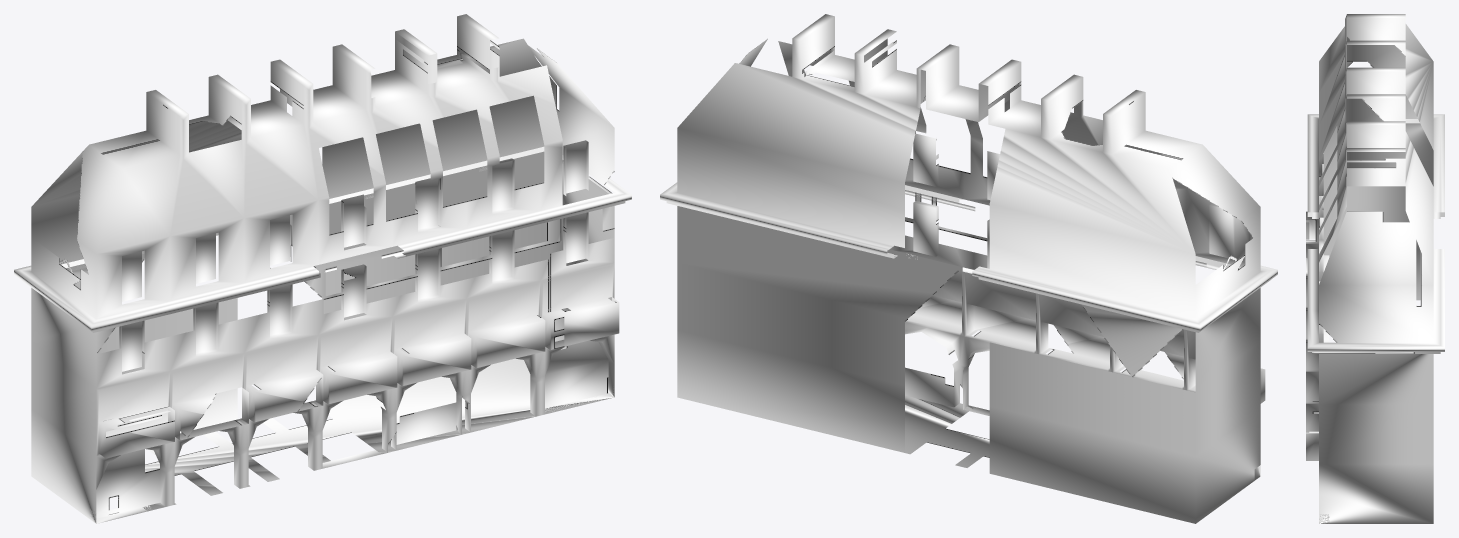
The model's file is building_03.obj.
3 renders of one model, left to right at view 1: azimuth 30°, elevation 25°; view 2: azimuth 150°, elevation 25°; view 3: azimuth 270°, elevation 25°, orthographic. The views are drawn at different scales.
Visible parts, largest first — view 1: Cube1; view 2: Cube1; view 3: Cube1.
Part boxes in pixels (x1,y1,x2,y2): Cube1: (14, 14, 631, 523); Cube1: (660, 14, 1277, 523); Cube1: (1306, 14, 1444, 523).
Bounding box in the file's own units: 18.96 × 12.47 × 4.77.
